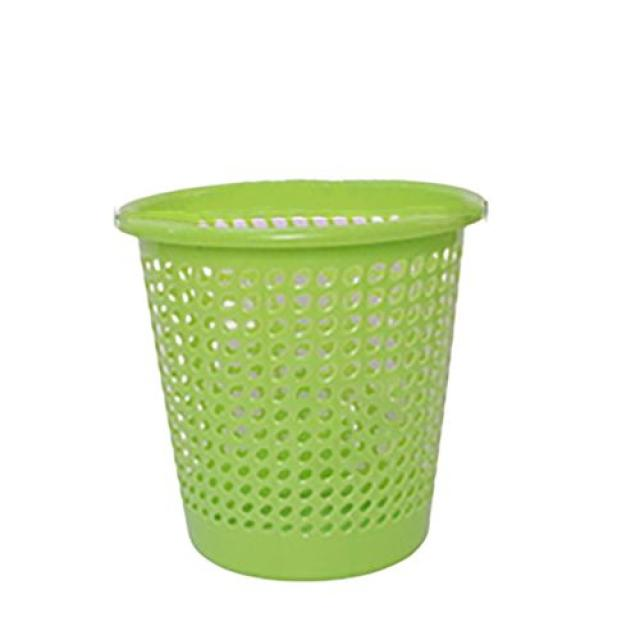dustbin: (110, 168, 492, 588)
